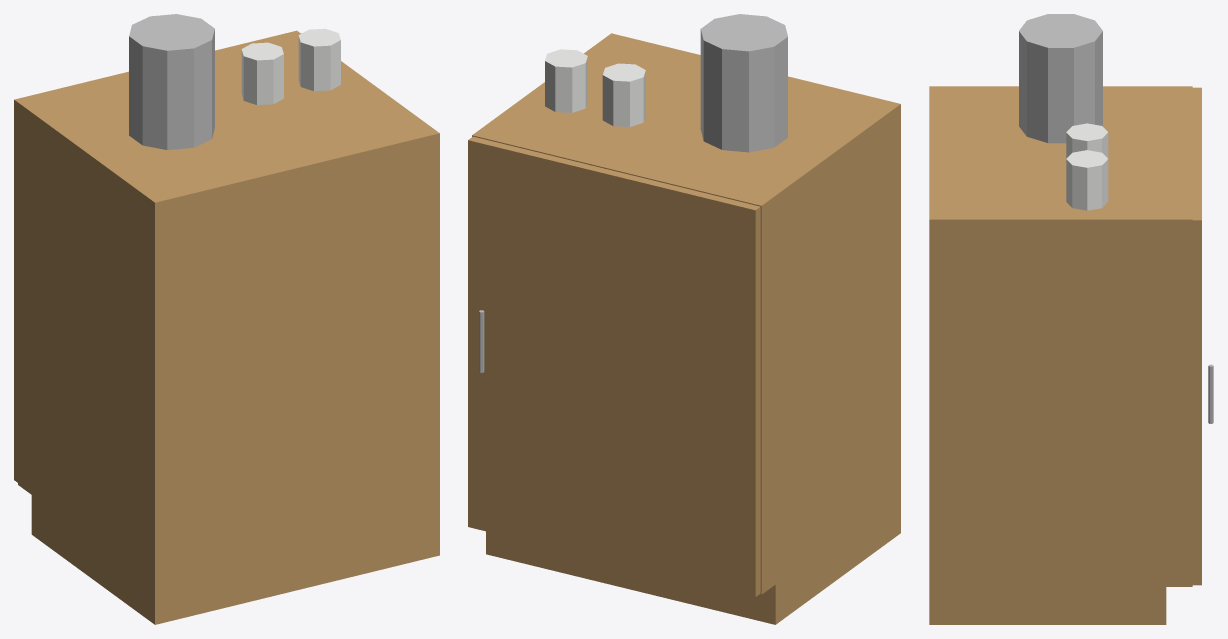
File: hospitality.hotel.minibar_unit.glb
3 renders of one model, left to right at view 1: azimuth 30°, elevation 25°; view 2: azimuth 150°, elevation 25°; view 3: azimuth 270°, elevation 25°, orthographic. The views are drawn at different scales.
Visible parts, largest first — view 1: main__glulam, main__steel_stainless, main__ceramic; view 2: main__glulam, main__steel_stainless, main__ceramic; view 3: main__glulam, main__steel_stainless, main__ceramic.
Boxes of the visible parts, left/top/right/bottom form: main__glulam: left=14, top=30, right=439, bottom=624; main__steel_stainless: left=129, top=14, right=214, bottom=150; main__ceramic: left=241, top=28, right=340, bottom=105; main__glulam: left=468, top=33, right=900, bottom=624; main__steel_stainless: left=479, top=14, right=787, bottom=372; main__ceramic: left=545, top=49, right=645, bottom=126; main__glulam: left=929, top=86, right=1201, bottom=624; main__steel_stainless: left=1019, top=14, right=1213, bottom=423; main__ceramic: left=1066, top=123, right=1108, bottom=210.
Size of the model in its own units: 0.6 by 1.05 by 0.54.
